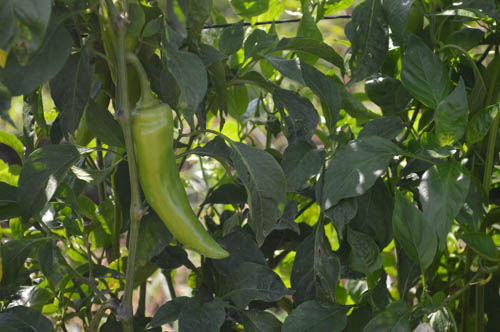ChiliPepper: (133, 105, 228, 262)
